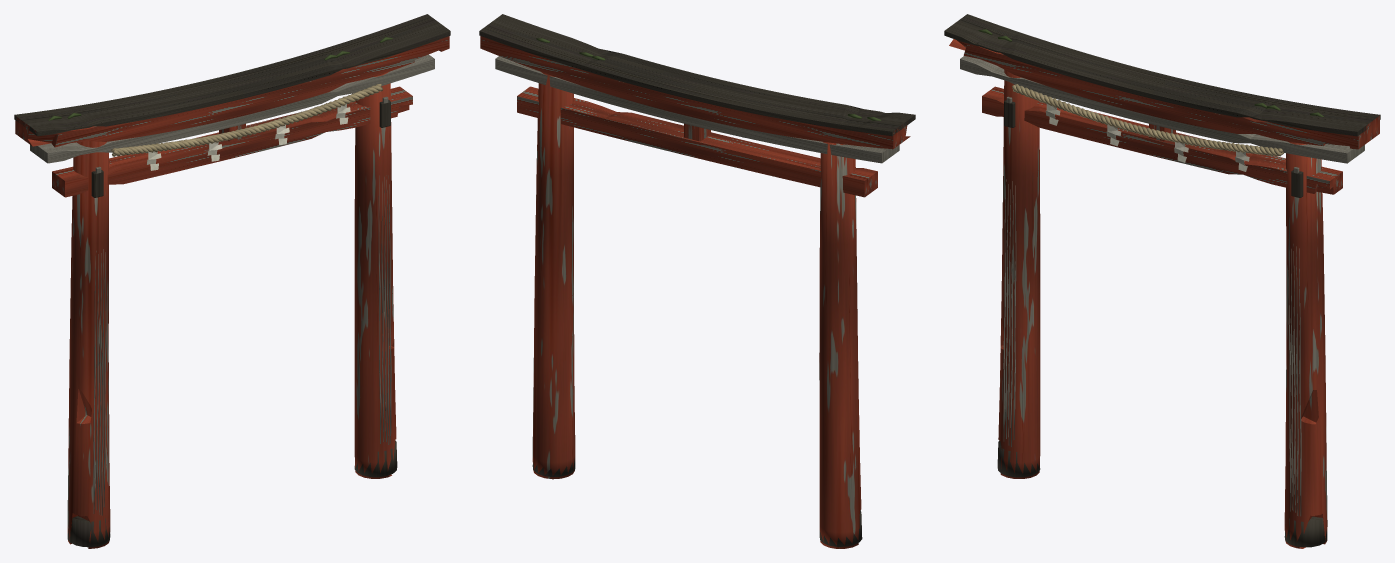
Rendered from weathered_torii_gate.glb.
3 renders of one model, left to right at view 1: azimuth 30°, elevation 25°; view 2: azimuth 150°, elevation 25°; view 3: azimuth 330°, elevation 25°, orthographic.
Parts seen in each view (by area): view 1: aged_vermilion_wood_surface, rain_darkened_wood_surface, exposed_cedar_wood_surface, straw_shimenawa_surface, worn_rice_paper_surface; view 2: aged_vermilion_wood_surface, rain_darkened_wood_surface, exposed_cedar_wood_surface; view 3: aged_vermilion_wood_surface, rain_darkened_wood_surface, exposed_cedar_wood_surface, straw_shimenawa_surface, worn_rice_paper_surface.
Boxes of the visible parts, <box> form: aged_vermilion_wood_surface: <box>15,36,449,548</box>; rain_darkened_wood_surface: <box>14,14,450,547</box>; exposed_cedar_wood_surface: <box>30,54,434,515</box>; straw_shimenawa_surface: <box>111,83,383,156</box>; worn_rice_paper_surface: <box>146,103,350,170</box>; aged_vermilion_wood_surface: <box>480,36,910,548</box>; rain_darkened_wood_surface: <box>479,14,915,546</box>; exposed_cedar_wood_surface: <box>495,56,899,163</box>; aged_vermilion_wood_surface: <box>949,39,1379,548</box>; rain_darkened_wood_surface: <box>944,14,1380,547</box>; exposed_cedar_wood_surface: <box>960,56,1364,516</box>; straw_shimenawa_surface: <box>1012,84,1283,156</box>; worn_rice_paper_surface: <box>1045,103,1249,171</box>.
Size of the model in its own units: 3.8 by 3.8 by 0.4529.
6 materials, 6 textured.
